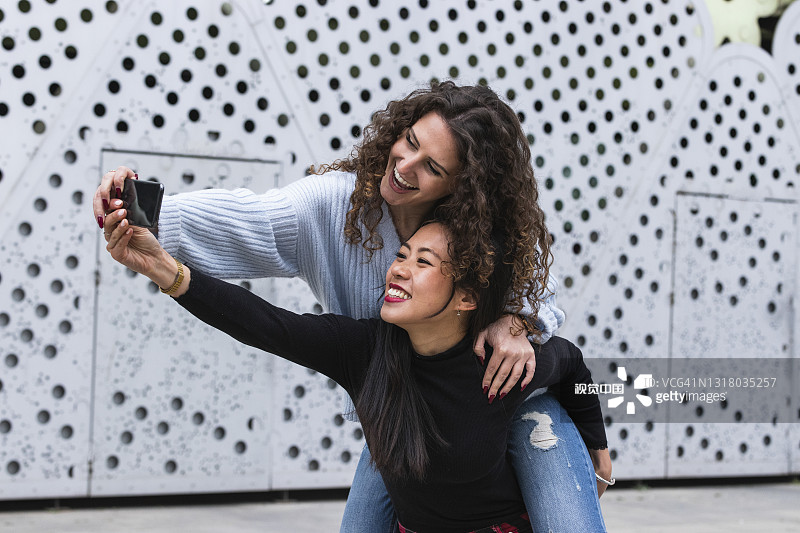no-phone: (466, 300, 546, 404)
taking photos: (85, 155, 185, 287)
